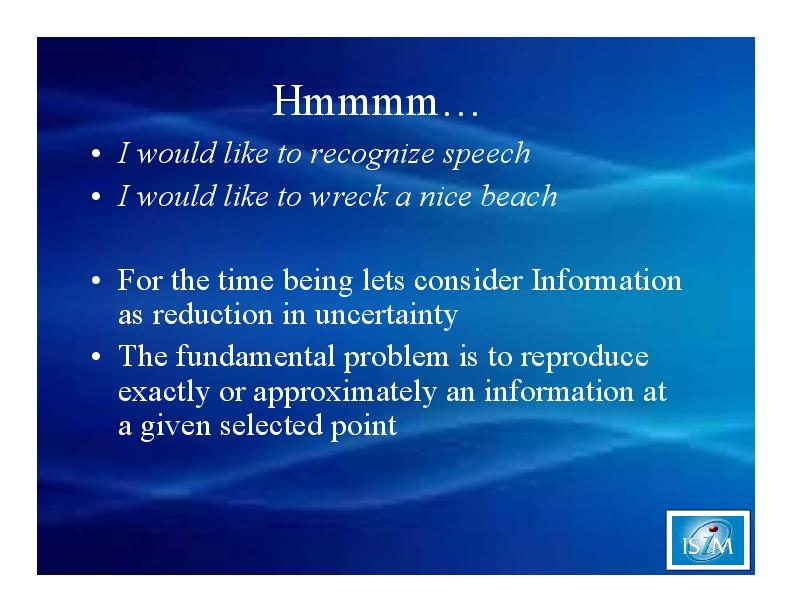paragraph: (85, 130, 698, 461)
title: (268, 73, 508, 122)
